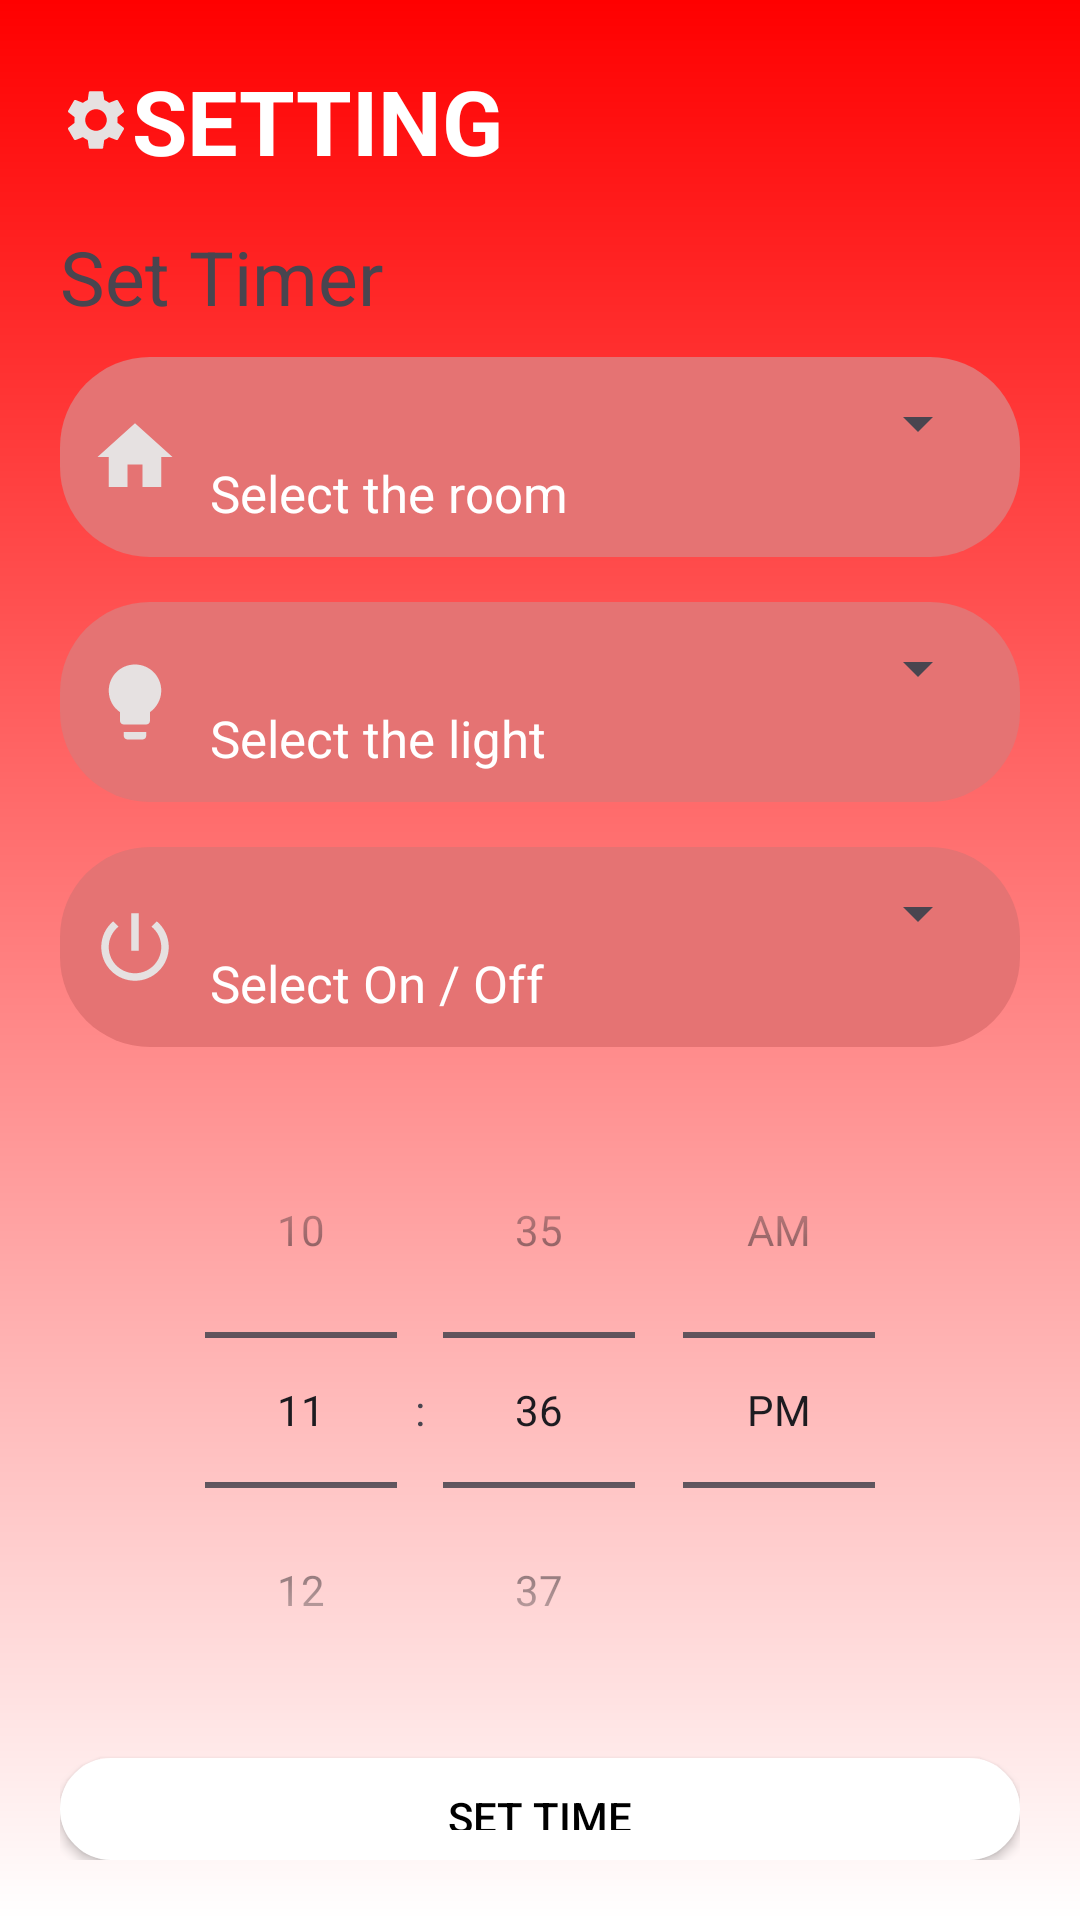

Icon click points for this 1080 × 1920 phone screenshot, format [x,y]:
home: [135,455]
lightbulb: [135,702]
power: [135,947]
